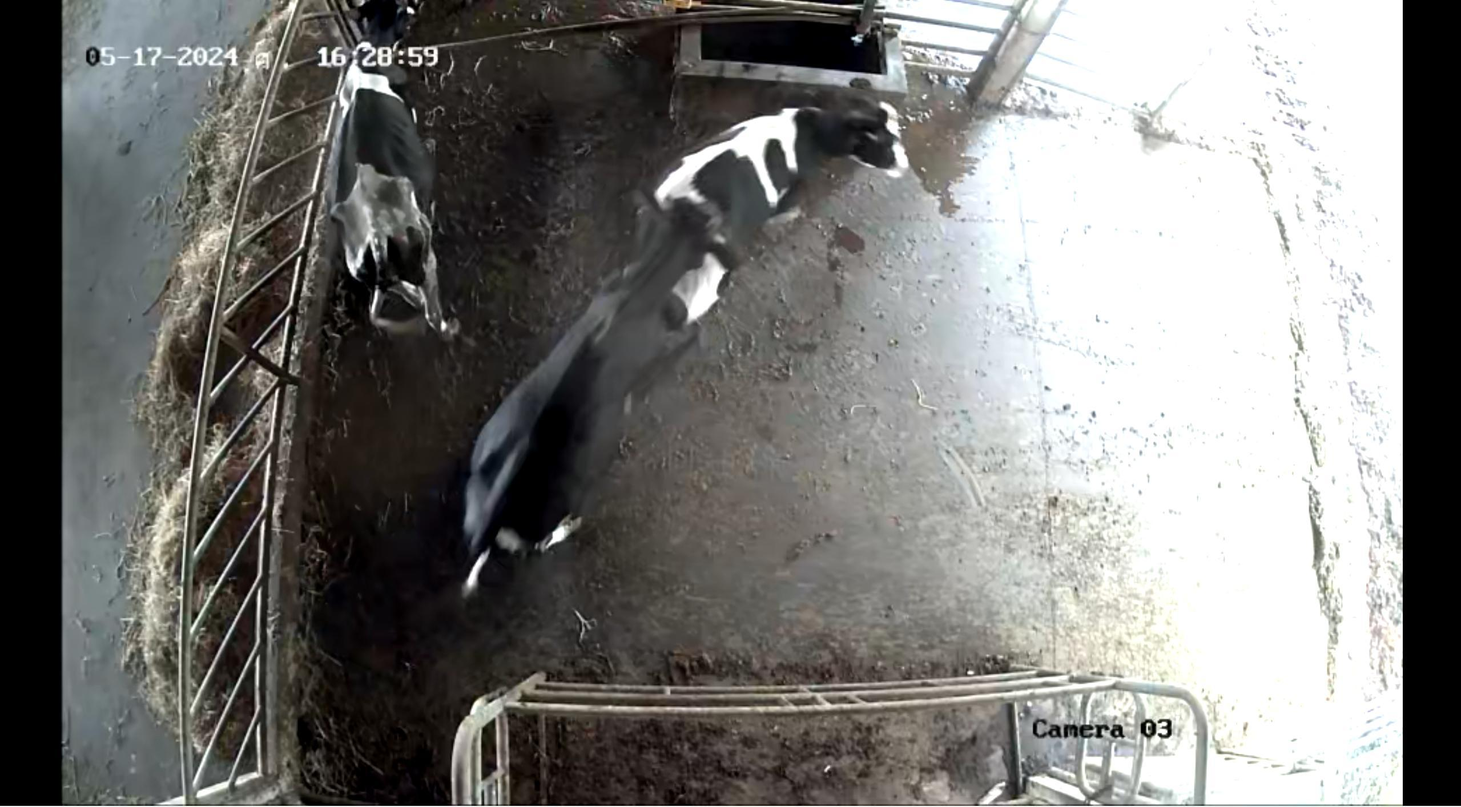ride: (448, 176, 754, 610)
stand: (329, 0, 472, 349), (654, 84, 925, 260)
